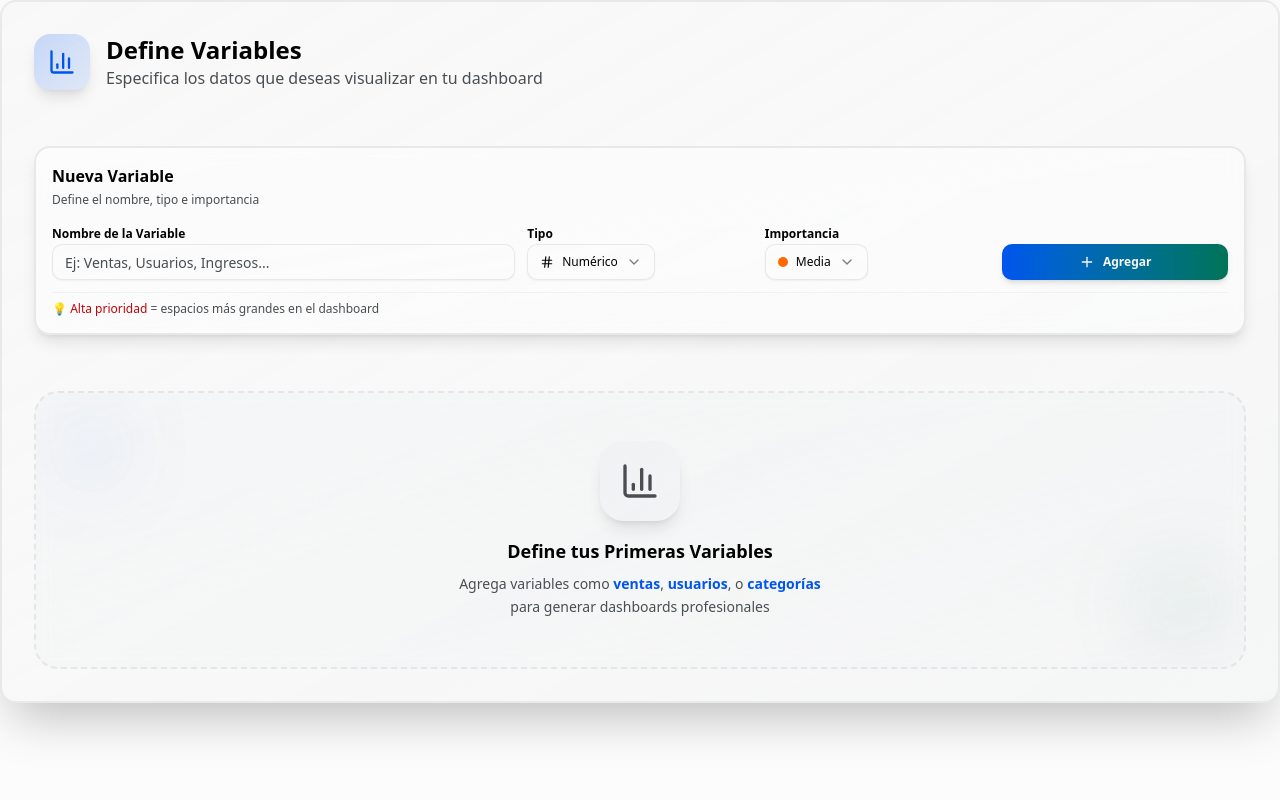
Test: VariableInput Component › shows error when trying to add duplicate variable name
This screenshot has width=1280, height=800.
// Intentar agregar variable con nombre duplicado
Type "Ventas" into the field labelled "Nombre de la Variable" at (284, 262), box x1=52 y1=244 x2=515 y2=280
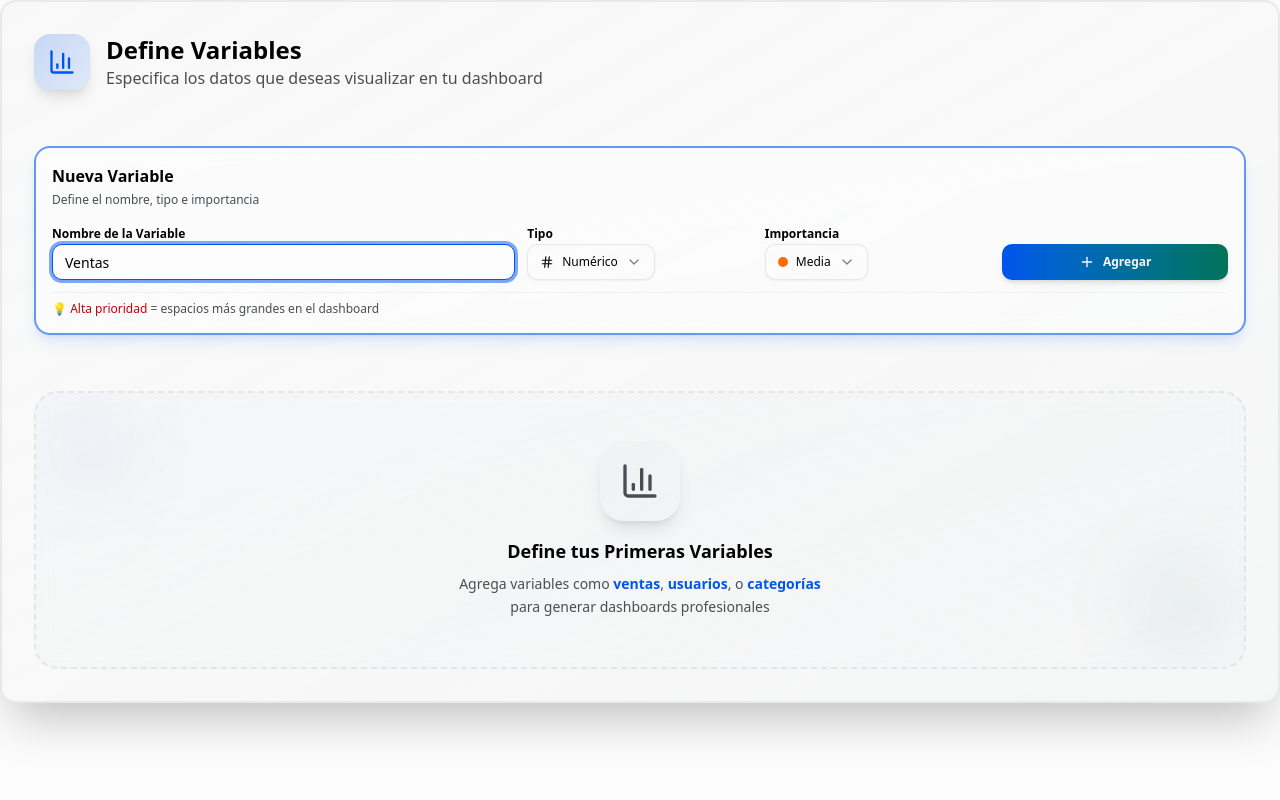
Click the button "Agregar" at (1115, 262), box x1=1002 y1=244 x2=1228 y2=280
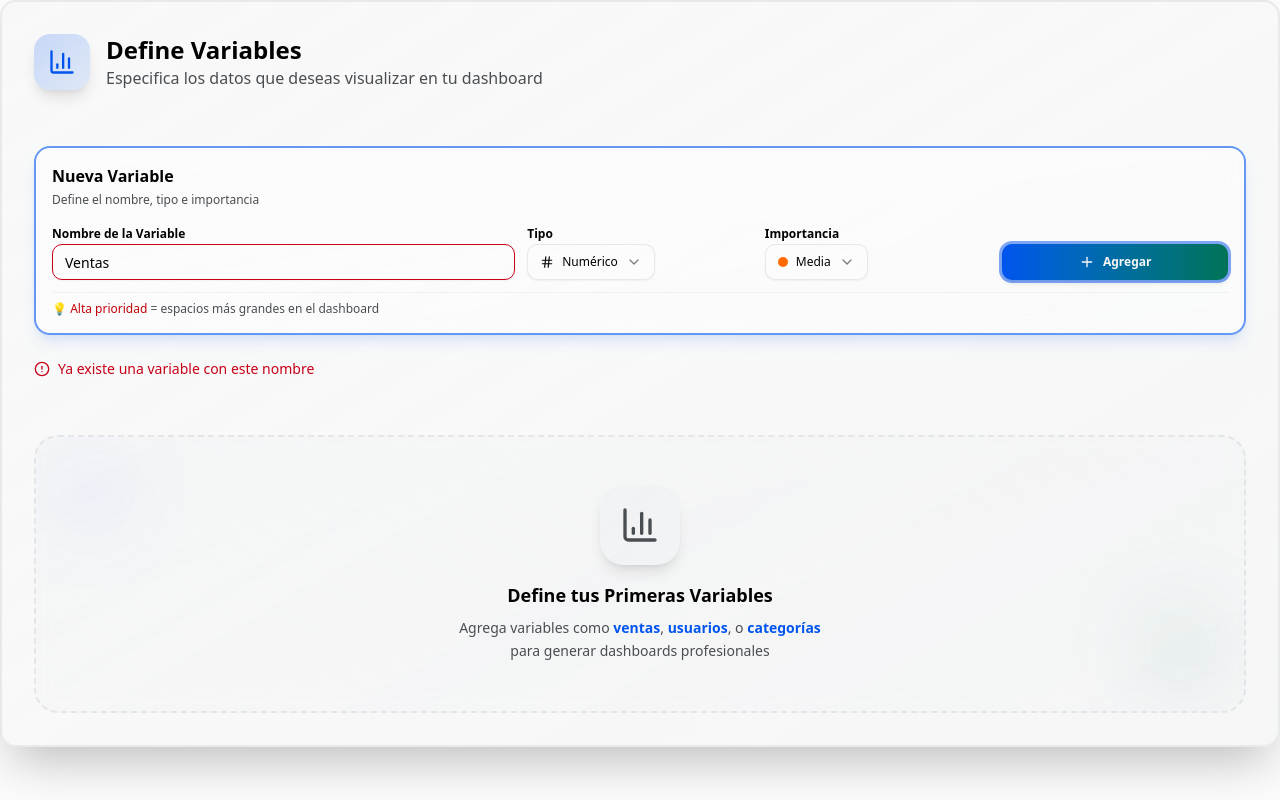
Expected: the text "Ya existe una variable con este nombre" is shown, x1=58 y1=359 x2=314 y2=379
